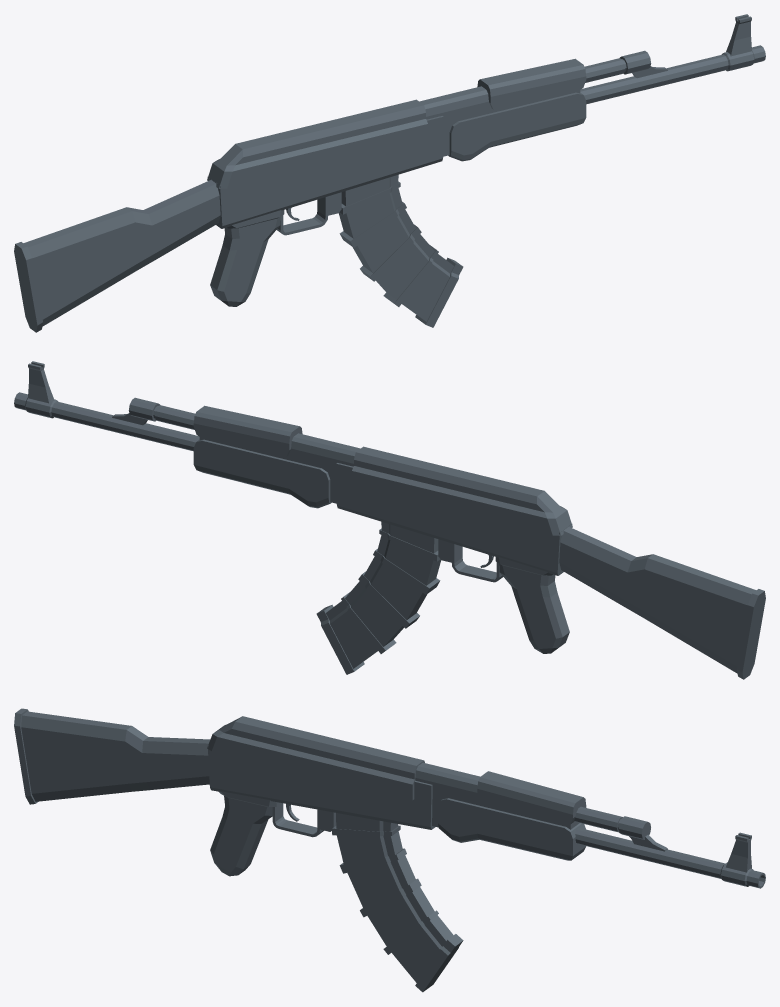
Rendered from elite.glb.
3 renders of one model, top to bottom at view 1: azimuth 30°, elevation 25°; view 2: azimuth 150°, elevation 25°; view 3: azimuth 330°, elevation 25°, orthographic.
Parts seen in each view (by area): view 1: AssaultRifle_5_Cube.148; view 2: AssaultRifle_5_Cube.148; view 3: AssaultRifle_5_Cube.148.
Part boxes in pixels (left/top/right/bottom): AssaultRifle_5_Cube.148: left=14, top=14, right=765, bottom=332; AssaultRifle_5_Cube.148: left=14, top=361, right=765, bottom=679; AssaultRifle_5_Cube.148: left=14, top=708, right=765, bottom=992.
Size of the model in its own units: 2.65 by 0.7827 by 0.0958.
